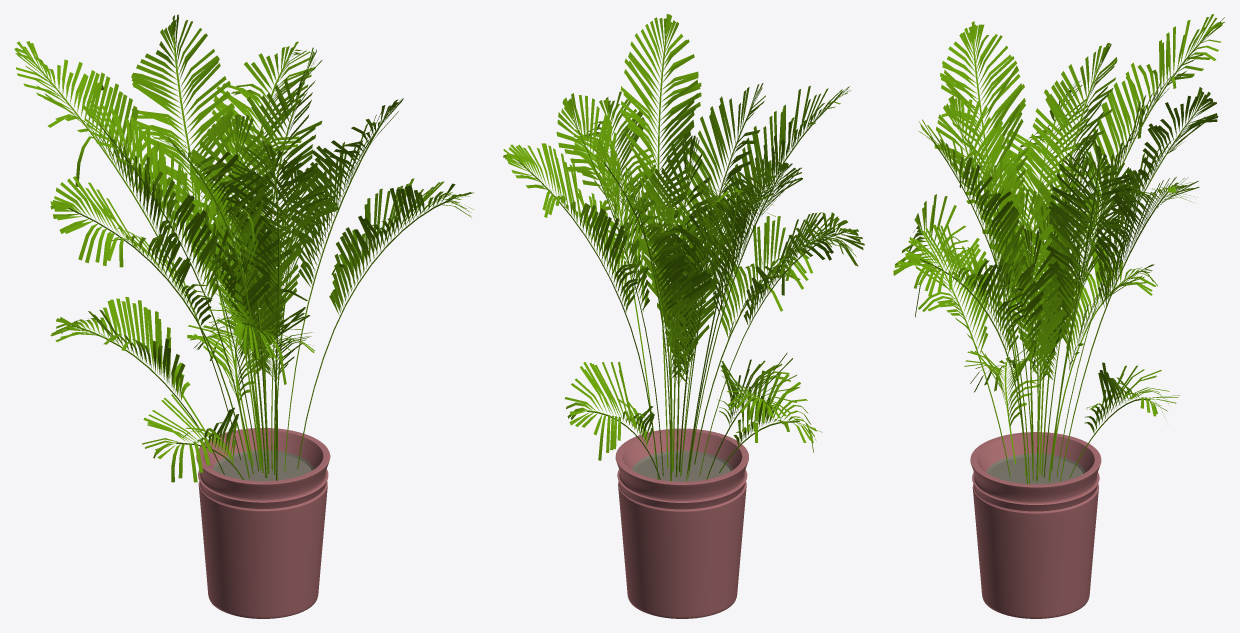
Rendered from sh_blend_swap_cc_0_plant.glb.
3 views of the same model, side by side, from view 1: azimuth 30°, elevation 25°; view 2: azimuth 150°, elevation 25°; view 3: azimuth 270°, elevation 25° (orthographic). The views are drawn at different scales.
Size of the model in its own units: 0.818 by 1.17 by 0.69.
